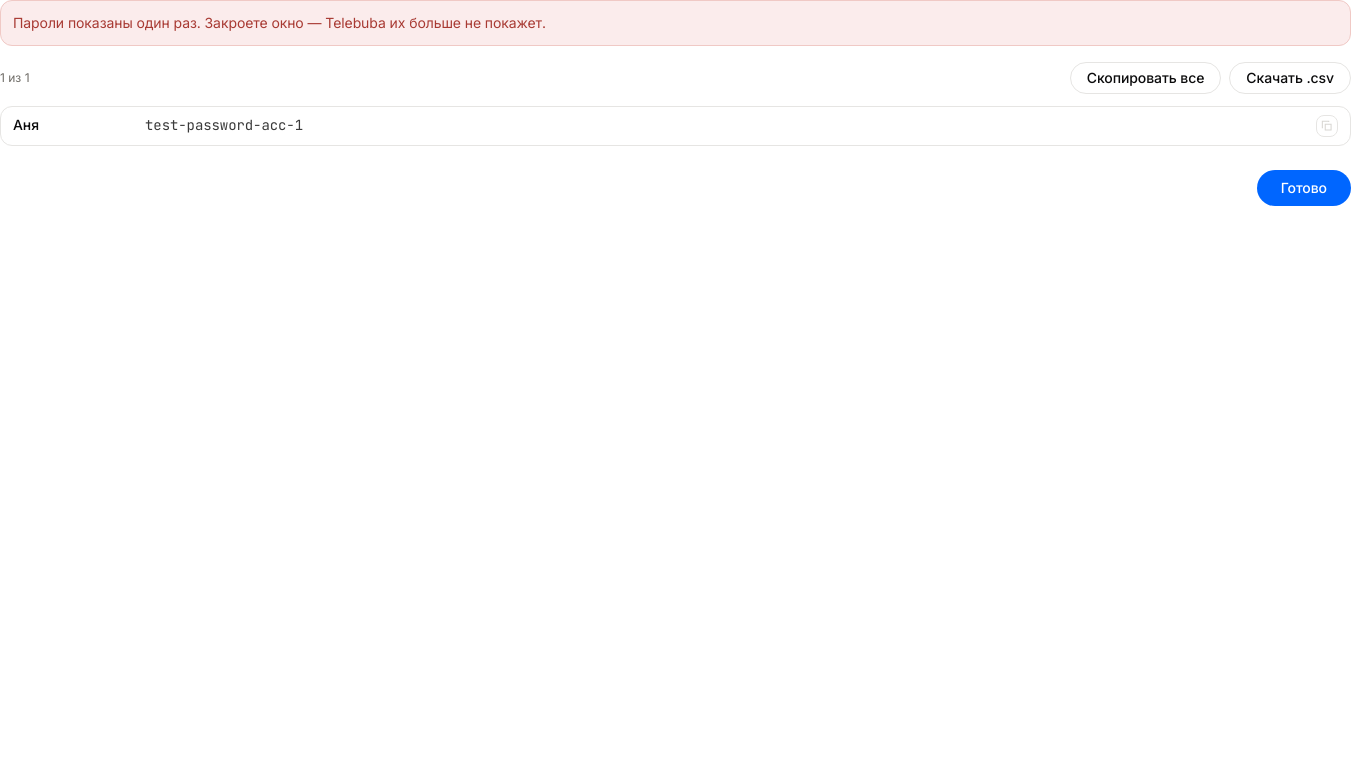
Test case: the .csv download waits for a confirmation and cancelling writes no file
The image size is (1366, 768).
What coordinates should you click on to do the following:
click the button "Скачать .csv"
I would click on:
 (1290, 78)
Its box is [1229,62,1351,94].
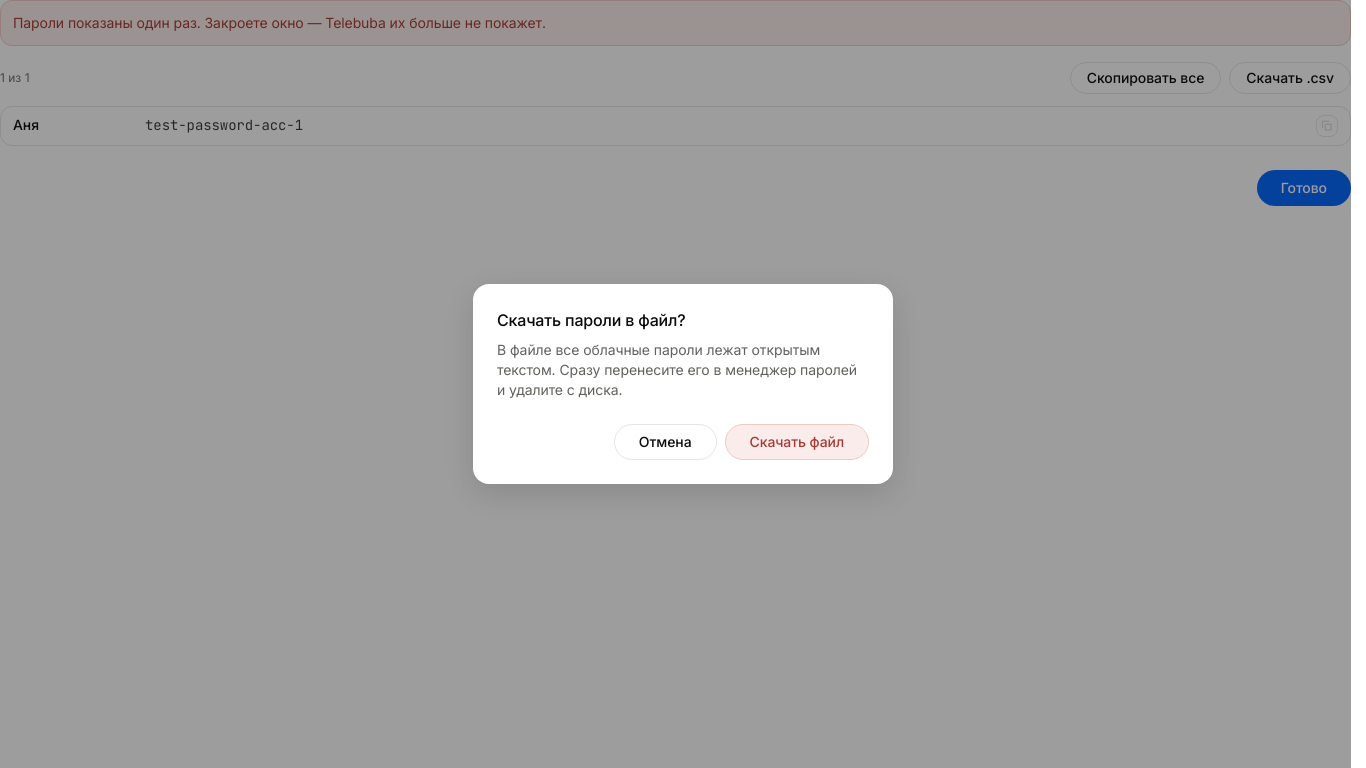
What coordinates should you click on to do the following:
click the button "Отмена"
I would click on:
 (665, 442)
Its box is [614,424,716,460].
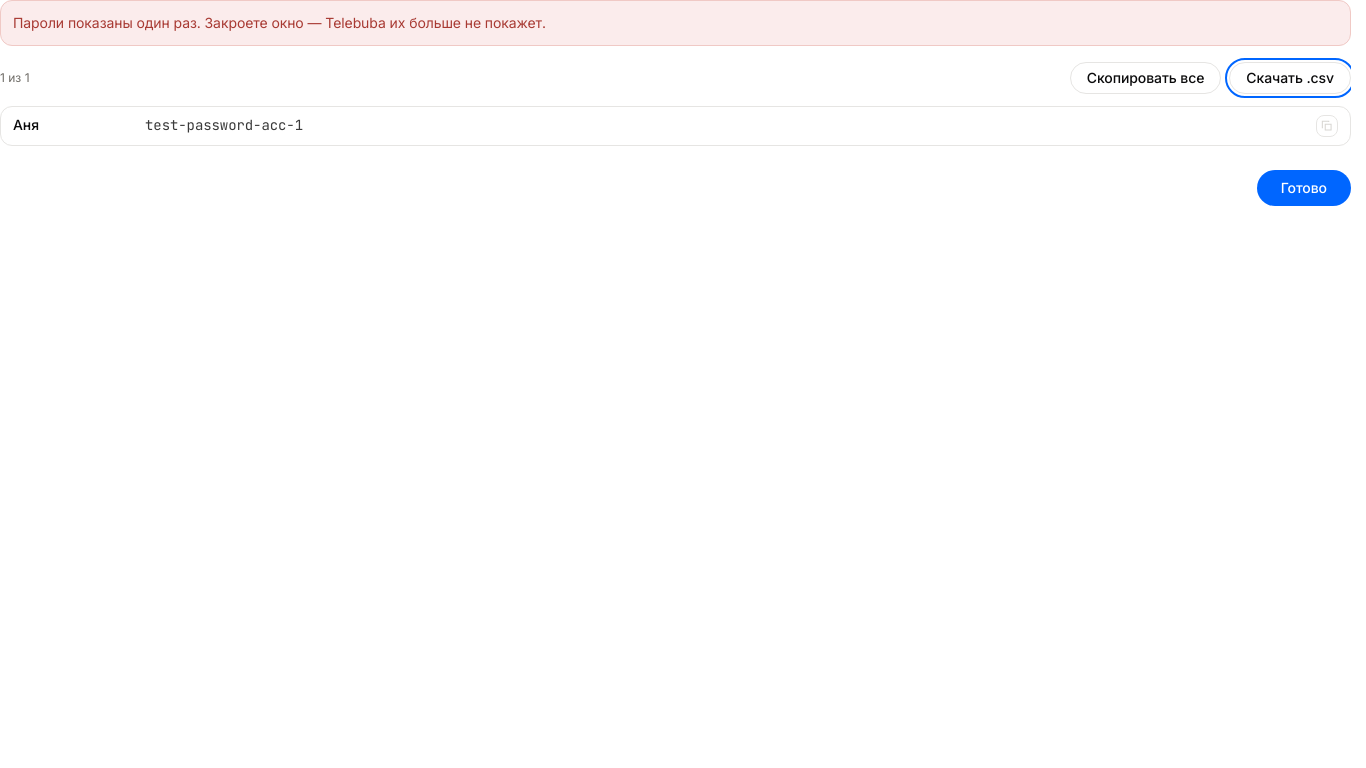
Expected: the dialog is gone
